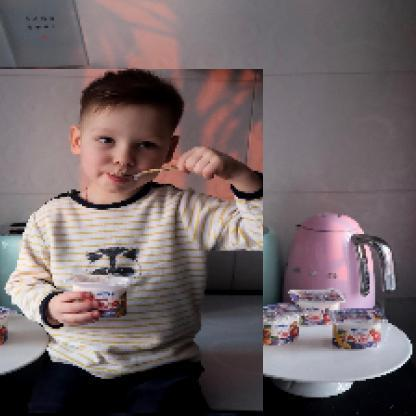child: (1, 70, 265, 415), (100, 125, 182, 194)
